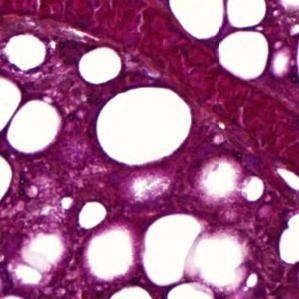steatosis: (96, 88, 195, 164), (5, 100, 61, 154), (77, 42, 123, 84)
